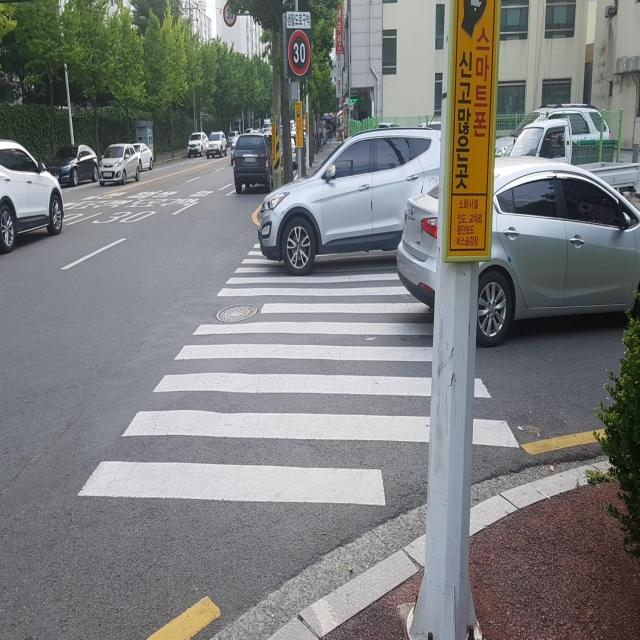횡단보도: (76, 238, 521, 509)
